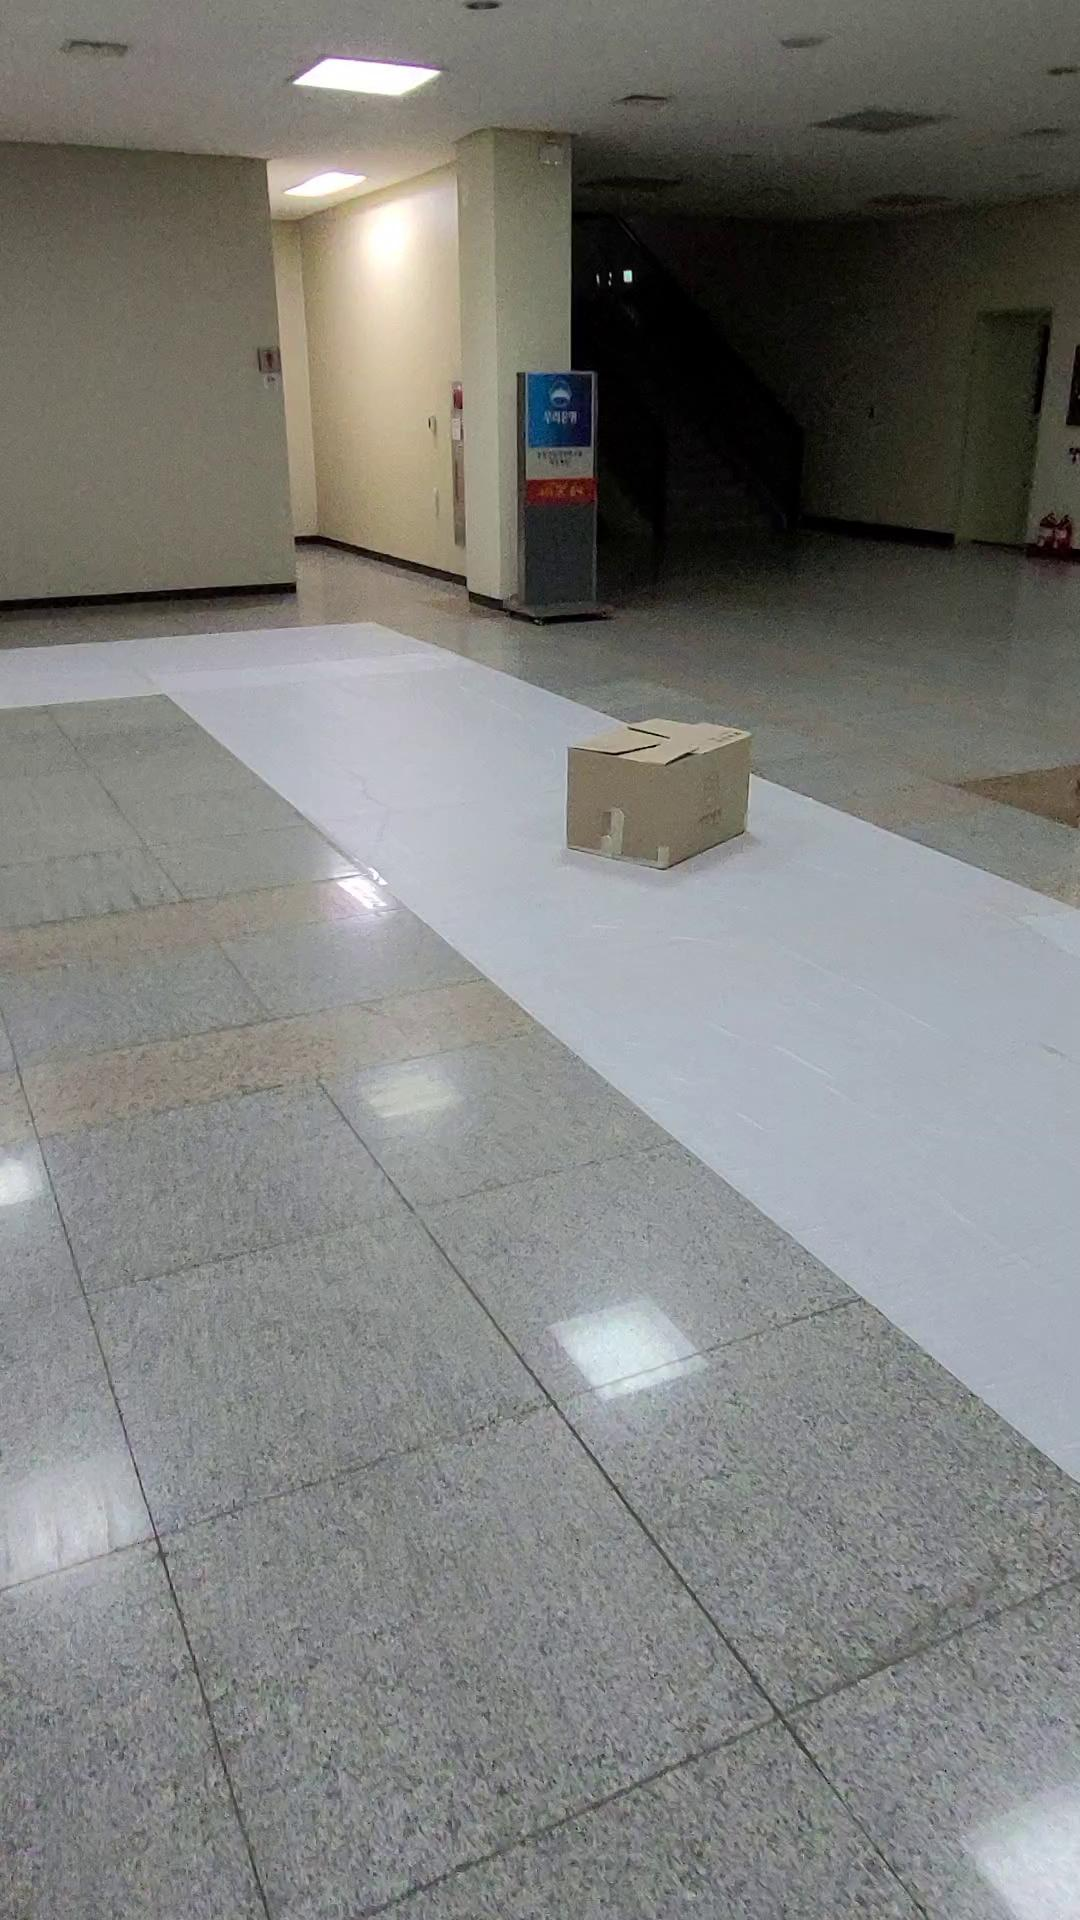Box: (556, 694, 765, 865)
